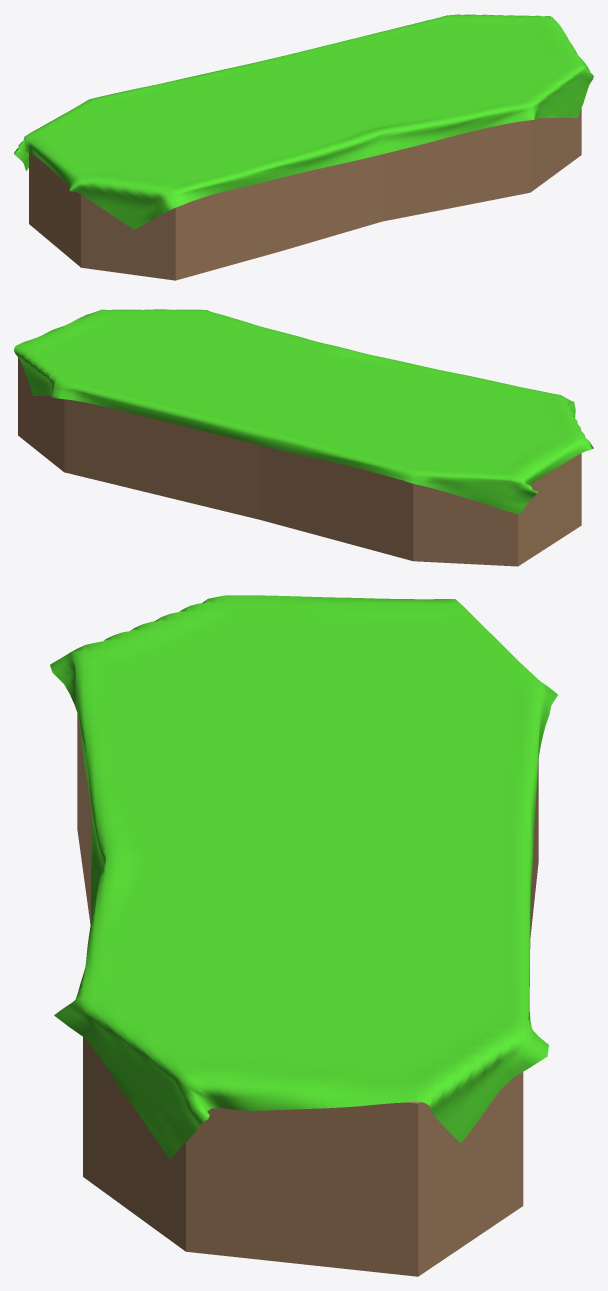
Rendered from SmallBloc01.fbx.
3 views of the same model, one above another, from view 1: azimuth 30°, elevation 25°; view 2: azimuth 150°, elevation 25°; view 3: azimuth 270°, elevation 25° (orthographic). The views are drawn at different scales.
Parts seen in each view (by area): view 1: SmallBloc01; view 2: SmallBloc01; view 3: SmallBloc01.
Boxes of the visible parts, <box> form: SmallBloc01: <box>14,14,593,280</box>; SmallBloc01: <box>14,309,593,566</box>; SmallBloc01: <box>50,595,557,1276</box>.
Size of the model in its own units: 1139 by 188 by 474.
